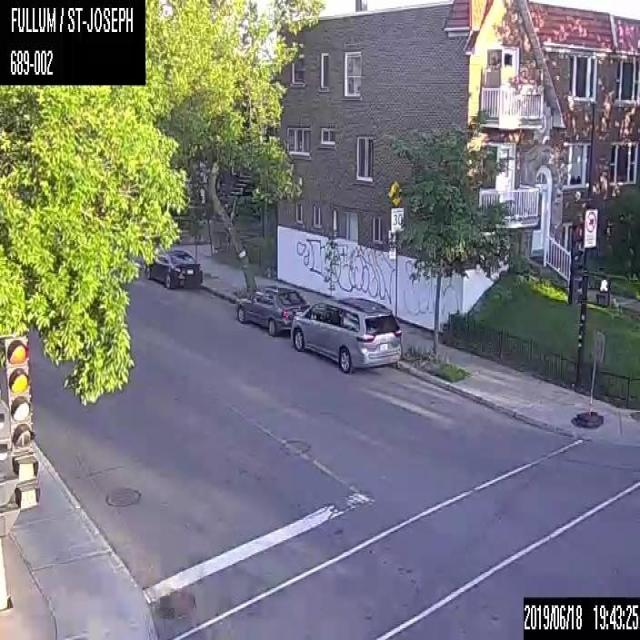construction: (572, 328, 606, 428)
vehicle: (291, 294, 403, 374), (234, 284, 308, 336), (144, 247, 202, 290)
